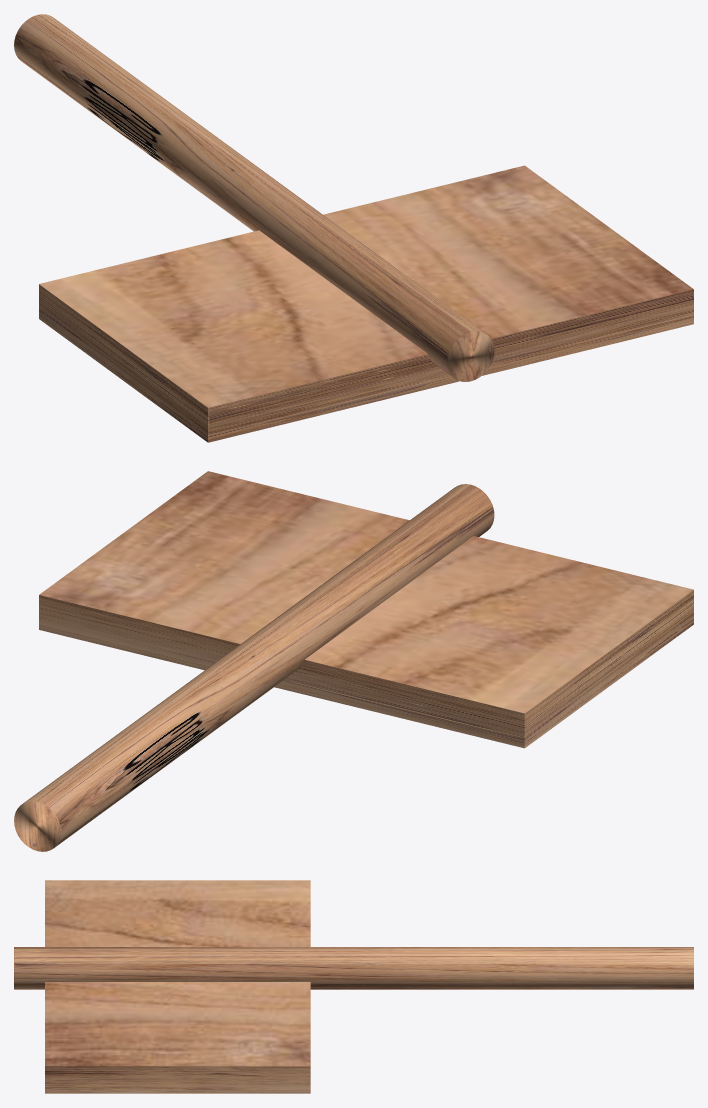
The model's file is sign.obj.
3 views of the same model, one above another, from view 1: azimuth 30°, elevation 25°; view 2: azimuth 150°, elevation 25°; view 3: azimuth 270°, elevation 25° (orthographic). The views are drawn at different scales.
Visible parts, largest first — view 1: sign; view 2: sign; view 3: sign.
Part boxes in pixels (bbox=[...]): sign: bbox=[14, 14, 693, 442]; sign: bbox=[14, 471, 693, 851]; sign: bbox=[14, 880, 693, 1093].
Bounding box in the file's own units: 5.81 × 0.7554 × 8.98.
1 material, 1 textured.
